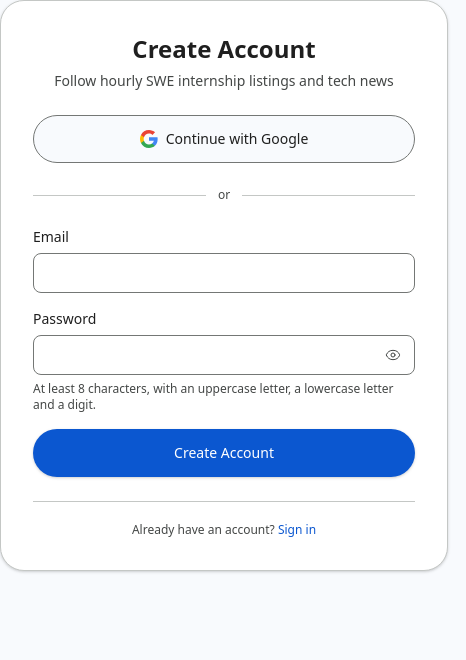
Test: Registration › shows the server's reason when registration is refused
Step 1. Type "new@example.com" into the field labelled "Email" → (224,273), box [33,253,415,293]
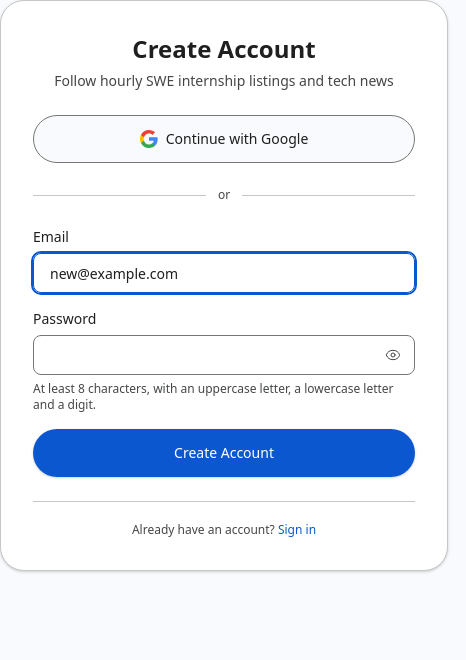
Step 2. Type "Passw0rdOK" into the password field labelled "Password" → (224,355), box [33,335,415,375]
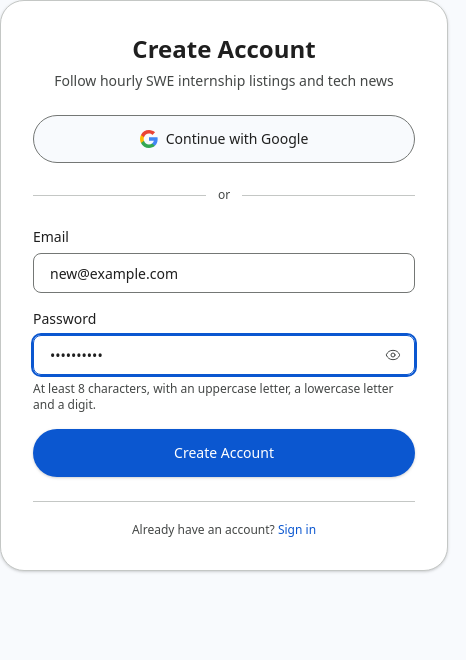
Step 3. Click the button "Create Account" → (224,453), box [33,429,415,477]
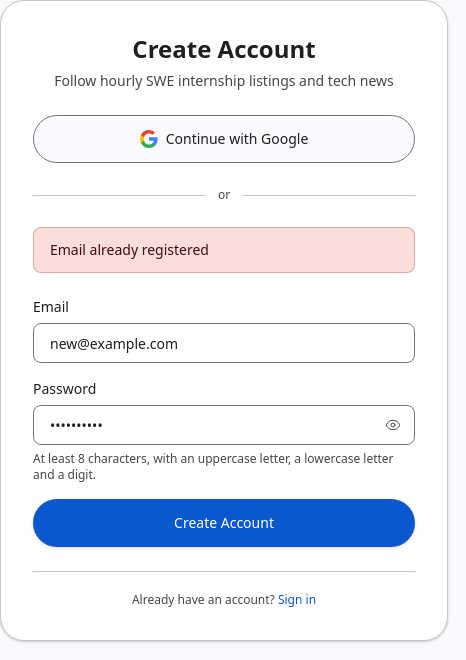
Expected: the message reads "Email already registered", [50,240,209,259]
